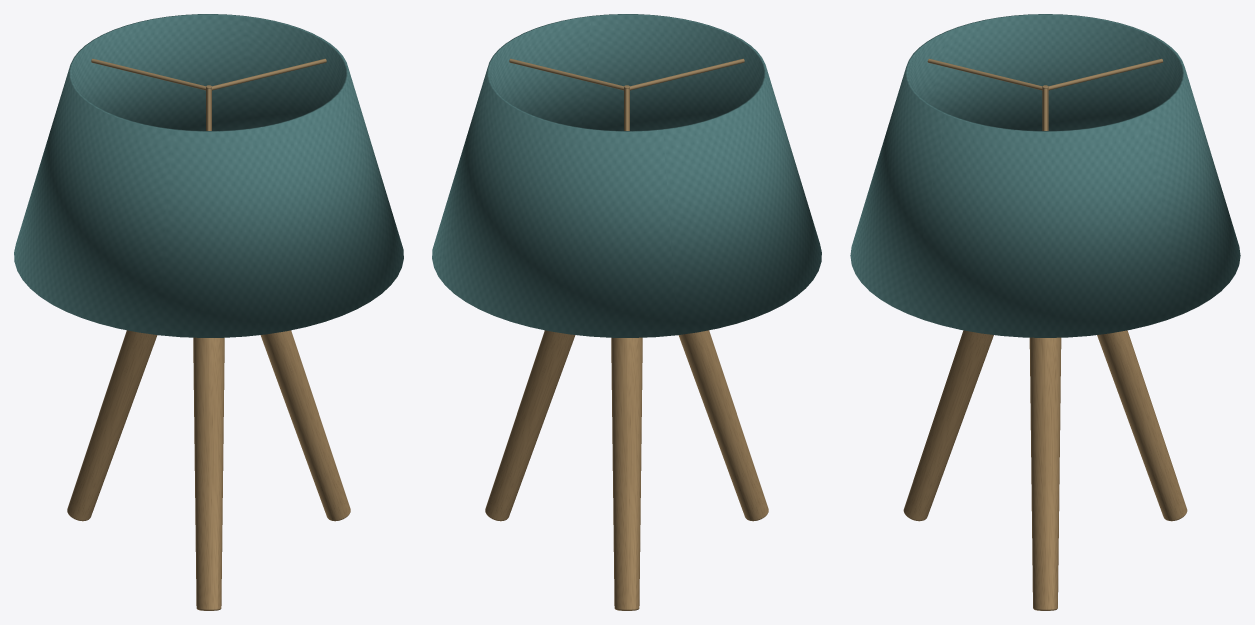
The model's file is tripod-table-lamp.glb.
3 views of the same model, side by side, from view 1: azimuth 30°, elevation 25°; view 2: azimuth 150°, elevation 25°; view 3: azimuth 270°, elevation 25° (orthographic).
Parts seen in each view (by area): view 1: Tripod | tapered fabric shade, Tripod | timber leg.002, Tripod | timber leg.001, Tripod | timber leg, Shade | support spoke, Shade | support spoke.001; view 2: Tripod | tapered fabric shade, Tripod | timber leg.001, Tripod | timber leg.002, Tripod | timber leg, Shade | support spoke, Shade | support spoke.002; view 3: Tripod | tapered fabric shade, Tripod | timber leg, Tripod | timber leg.001, Tripod | timber leg.002, Shade | support spoke.001, Shade | support spoke.002.
Part boxes in pixels (x1,y1,x2,y2): Tripod | tapered fabric shade: (14, 14, 403, 337); Tripod | timber leg.002: (193, 337, 224, 610); Tripod | timber leg.001: (67, 330, 157, 521); Tripod | timber leg: (260, 330, 350, 521); Shade | support spoke: (212, 58, 326, 90); Shade | support spoke.001: (91, 58, 205, 90); Tripod | tapered fabric shade: (432, 14, 821, 337); Tripod | timber leg.001: (611, 337, 642, 610); Tripod | timber leg.002: (678, 330, 768, 521); Tripod | timber leg: (485, 330, 575, 521); Shade | support spoke: (509, 58, 623, 90); Shade | support spoke.002: (630, 58, 744, 90); Tripod | tapered fabric shade: (850, 14, 1240, 337); Tripod | timber leg: (1029, 337, 1061, 610); Tripod | timber leg.001: (1097, 330, 1187, 521); Tripod | timber leg.002: (903, 330, 993, 521); Shade | support spoke.001: (1048, 58, 1163, 90); Shade | support spoke.002: (927, 58, 1042, 90).
Size of the model in its own units: 0.376 by 0.5063 by 0.376.
Materials: 5 (5 with a texture image).
